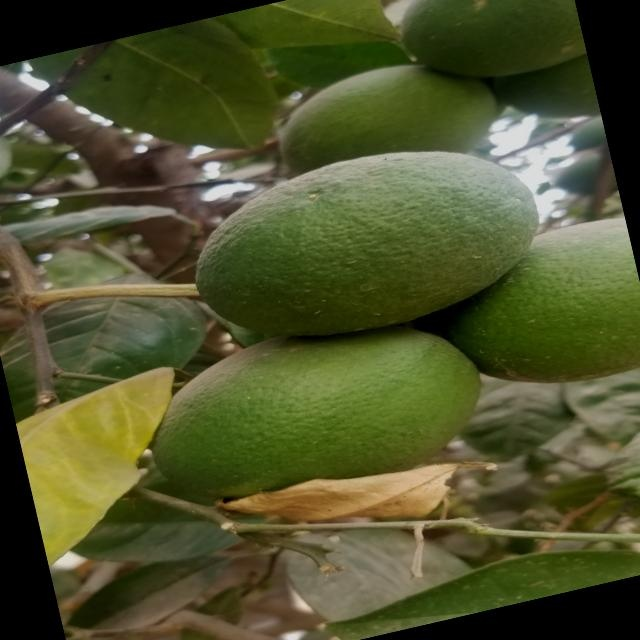agrume: (161, 111, 575, 391), (131, 294, 513, 542), (468, 214, 640, 402), (357, 0, 587, 104)
